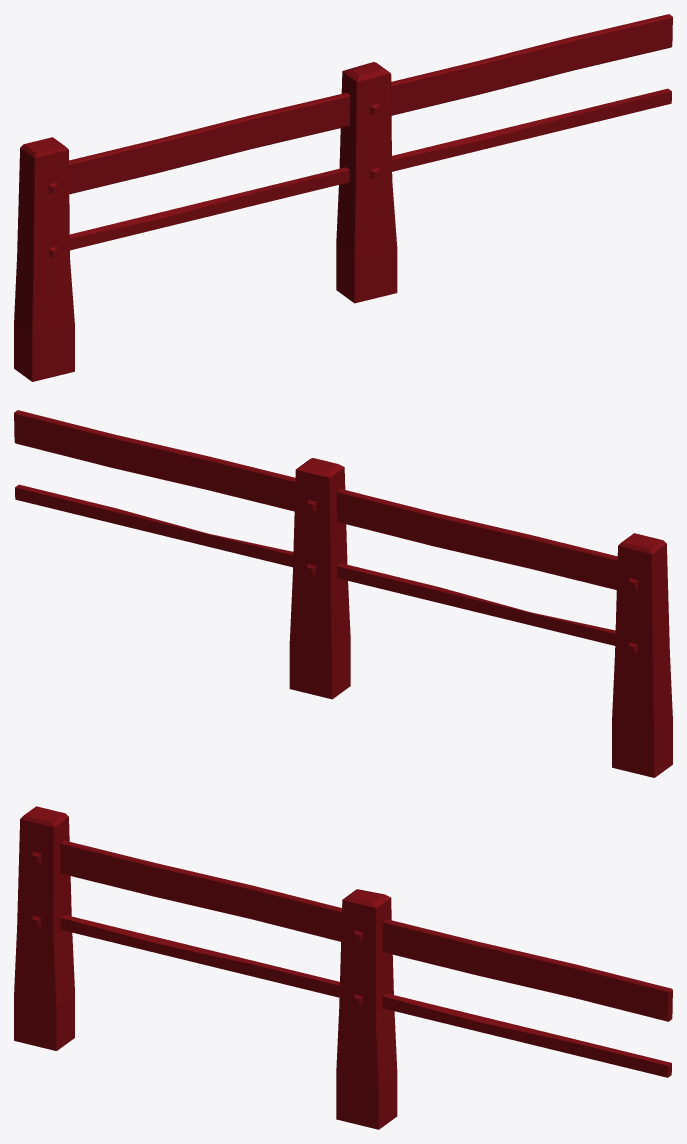
Rendered from SM_MH_01_Wood_GuardRail_02.fbx.
The picture shows the model from 3 angles, top to bottom: view 1: azimuth 30°, elevation 25°; view 2: azimuth 150°, elevation 25°; view 3: azimuth 330°, elevation 25°; orthographic projection.
Visible parts, largest first — view 1: SM_MH_01_Wood_GuardRail_02_LOD0; view 2: SM_MH_01_Wood_GuardRail_02_LOD0; view 3: SM_MH_01_Wood_GuardRail_02_LOD0.
Part boxes in pixels (x1=…): SM_MH_01_Wood_GuardRail_02_LOD0: x1=14, y1=14, x2=672, y2=381; SM_MH_01_Wood_GuardRail_02_LOD0: x1=14, y1=410, x2=672, y2=777; SM_MH_01_Wood_GuardRail_02_LOD0: x1=14, y1=806, x2=672, y2=1129.
Size of what is drawn, in the model's own units: 302 by 100 by 17.
